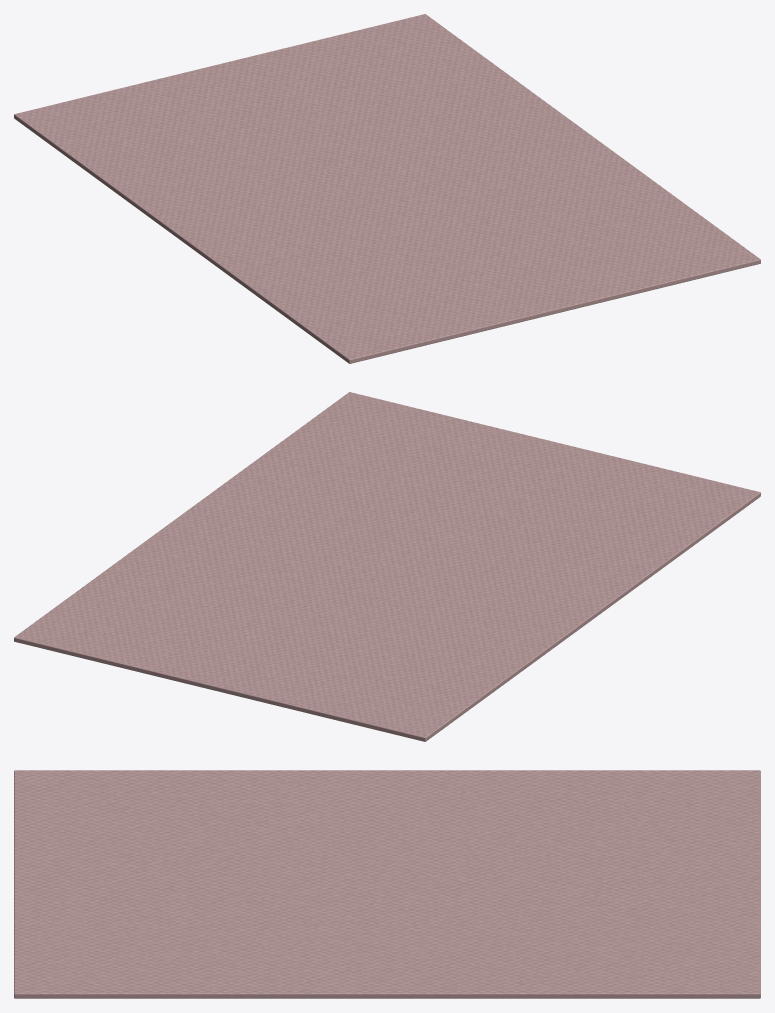
File: stoense.glb
3 renders of one model, top to bottom at view 1: azimuth 30°, elevation 25°; view 2: azimuth 150°, elevation 25°; view 3: azimuth 270°, elevation 25°, orthographic. The views are drawn at different scales.
Parts seen in each view (by area): view 1: STOENSE Low-pile rug; view 2: STOENSE Low-pile rug; view 3: STOENSE Low-pile rug.
Boxes of the visible parts, x1,y1,x2,y2 form: STOENSE Low-pile rug: (14, 14, 760, 363); STOENSE Low-pile rug: (14, 392, 760, 741); STOENSE Low-pile rug: (14, 770, 760, 998).
Size of the model in its own units: 1.7 by 0.018 by 2.4.
1 material, 1 textured.
